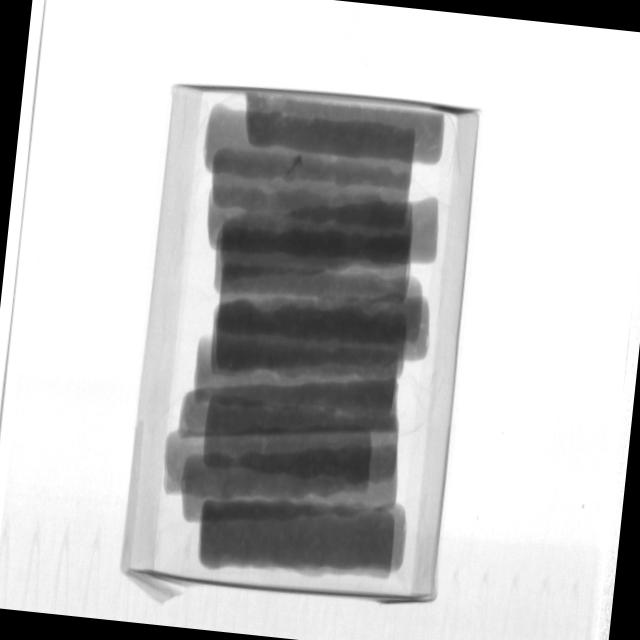ym: (287, 151, 305, 177)
